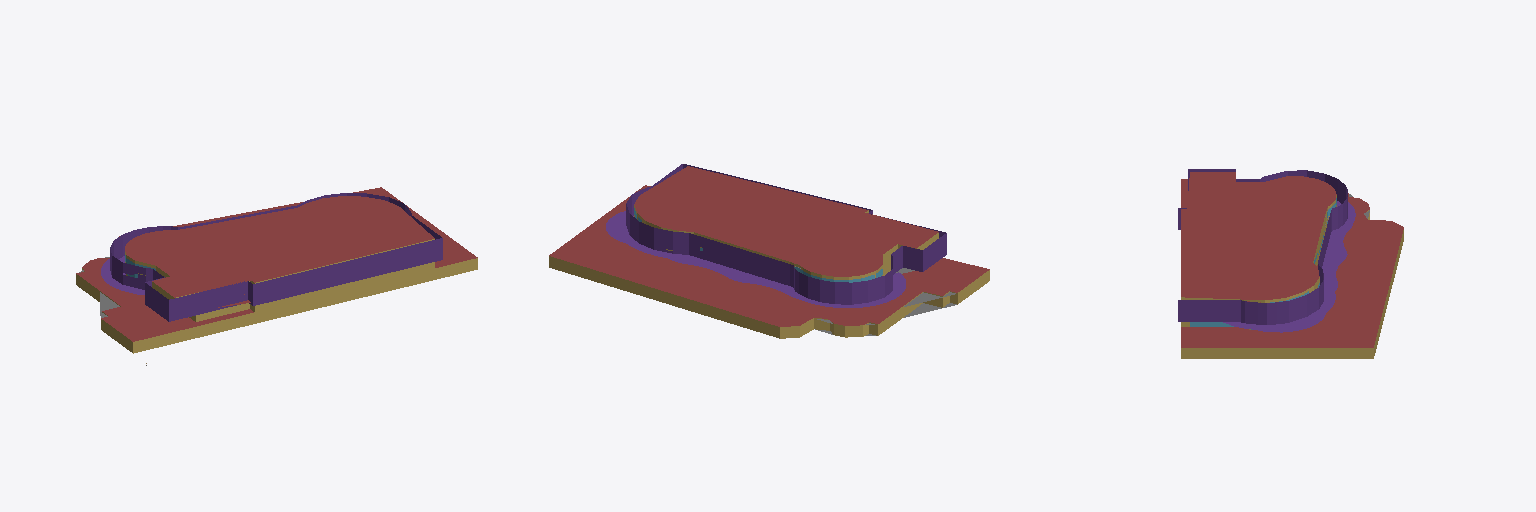
The model's file is Sawangan.obj.
3 renders of one model, left to right at view 1: azimuth 30°, elevation 25°; view 2: azimuth 150°, elevation 25°; view 3: azimuth 270°, elevation 25°, orthographic.
Visible parts, largest first — view 1: Mesh16 Space___Thermal_Zone__Space_1 Model, Mesh121 Shading_Surface_Group____2e352da7_1615_4716_bb9e_c83624a, Mesh23 Space___Thermal_Zone__LGM___Plenum Model, Mesh112 Space___Thermal_Zone__LG___Supermarket Model, Mesh27 Space___Thermal_Zone__LG___ParkingHigh Model, Mesh119 Space___Thermal_Zone__GF___DeptStore4AHU Model, Mesh7 Space___Thermal_Zone__LG___Empty Model; view 2: Mesh16 Space___Thermal_Zone__Space_1 Model, Mesh23 Space___Thermal_Zone__LGM___Plenum Model, Mesh121 Shading_Surface_Group____2e352da7_1615_4716_bb9e_c83624a, Mesh27 Space___Thermal_Zone__LG___ParkingHigh Model, Mesh85 Space___Thermal_Zone__LG___Parking Model, Mesh79 Space___Thermal_Zone__LGM___Parking Model; view 3: Mesh16 Space___Thermal_Zone__Space_1 Model, Mesh23 Space___Thermal_Zone__LGM___Plenum Model, Mesh121 Shading_Surface_Group____2e352da7_1615_4716_bb9e_c83624a, Mesh85 Space___Thermal_Zone__LG___Parking Model, Mesh79 Space___Thermal_Zone__LGM___Parking Model.
Part boxes in pixels (x1,y1,x2,y2): Mesh16 Space___Thermal_Zone__Space_1 Model: (125,196,434,298); Mesh121 Shading_Surface_Group____2e352da7_1615_4716_bb9e_c83624a: (101,193,442,321); Mesh23 Space___Thermal_Zone__LGM___Plenum Model: (76,187,477,342); Mesh112 Space___Thermal_Zone__LG___Supermarket Model: (256,275,410,323); Mesh27 Space___Thermal_Zone__LG___ParkingHigh Model: (76,269,199,353); Mesh119 Space___Thermal_Zone__GF___DeptStore4AHU Model: (209,281,358,318); Mesh7 Space___Thermal_Zone__LG___Empty Model: (200,313,255,336); Mesh16 Space___Thermal_Zone__Space_1 Model: (634,166,938,278); Mesh23 Space___Thermal_Zone__LGM___Plenum Model: (549,185,989,327); Mesh121 Shading_Surface_Group____2e352da7_1615_4716_bb9e_c83624a: (606,164,946,307); Mesh27 Space___Thermal_Zone__LG___ParkingHigh Model: (814,271,989,337); Mesh85 Space___Thermal_Zone__LG___Parking Model: (549,262,813,338); Mesh79 Space___Thermal_Zone__LGM___Parking Model: (549,257,813,332); Mesh16 Space___Thermal_Zone__Space_1 Model: (1181,172,1336,302); Mesh23 Space___Thermal_Zone__LGM___Plenum Model: (1181,179,1403,348); Mesh121 Shading_Surface_Group____2e352da7_1615_4716_bb9e_c83624a: (1178,169,1355,332); Mesh85 Space___Thermal_Zone__LG___Parking Model: (1181,236,1403,358); Mesh79 Space___Thermal_Zone__LGM___Parking Model: (1181,231,1403,352).
Bounding box in the file's own units: 213934 × 26280 × 133520.